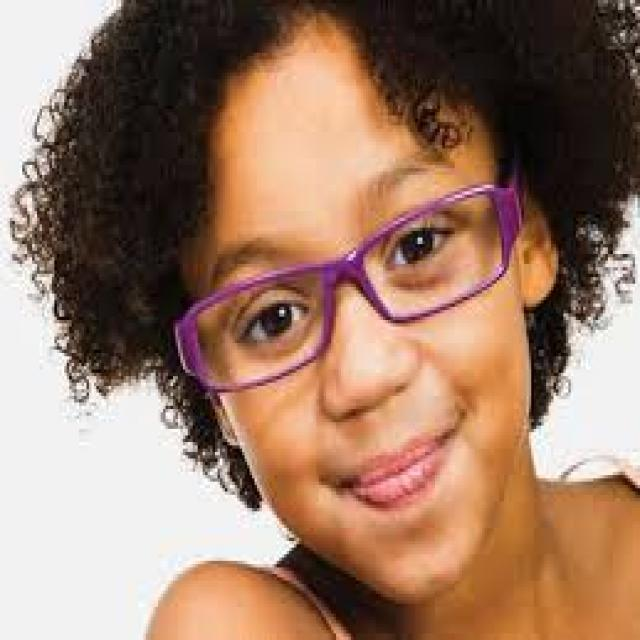Glasses: (170, 155, 532, 403)
